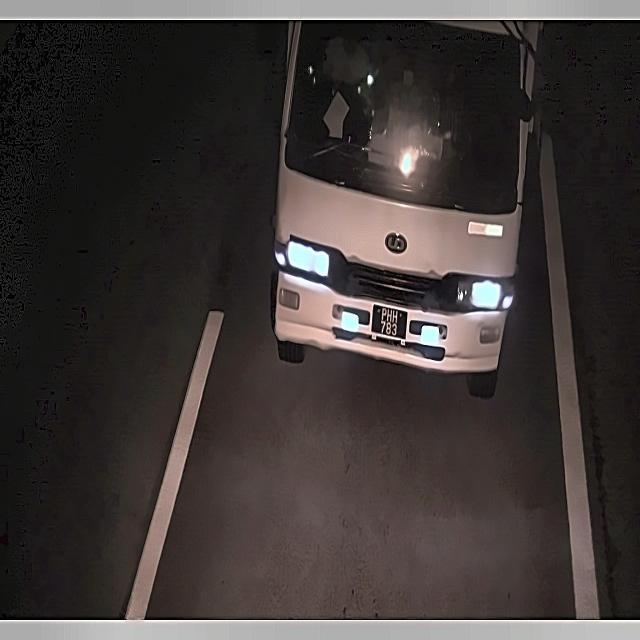car: (371, 301, 404, 344)
